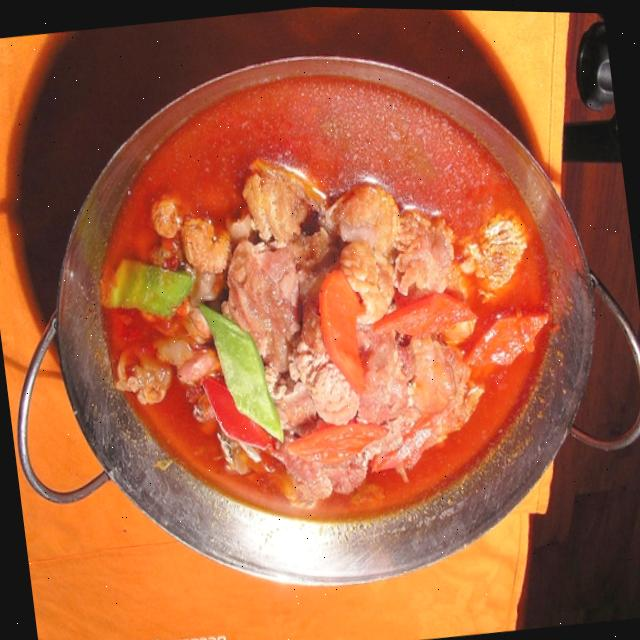汤锅炖物: (5, 0, 633, 632)
